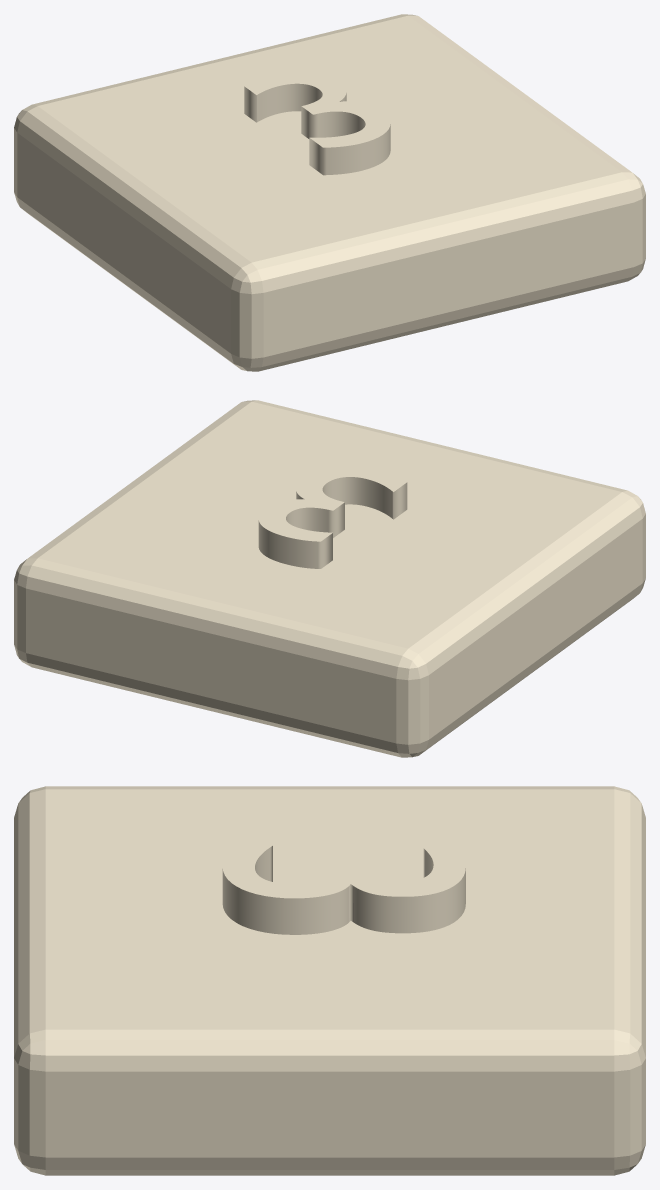
The model's file is Tile_3.fbx.
The picture shows the model from 3 angles, top to bottom: view 1: azimuth 30°, elevation 25°; view 2: azimuth 150°, elevation 25°; view 3: azimuth 270°, elevation 25°; orthographic projection. The views are drawn at different scales.
Visible parts, largest first — view 1: Tile_3; view 2: Tile_3; view 3: Tile_3.
Boxes of the visible parts, bbox=[...] form: Tile_3: bbox=[14, 14, 645, 371]; Tile_3: bbox=[14, 400, 645, 757]; Tile_3: bbox=[14, 786, 645, 1175].
Size of the model in its own units: 80 by 25.1 by 80.
